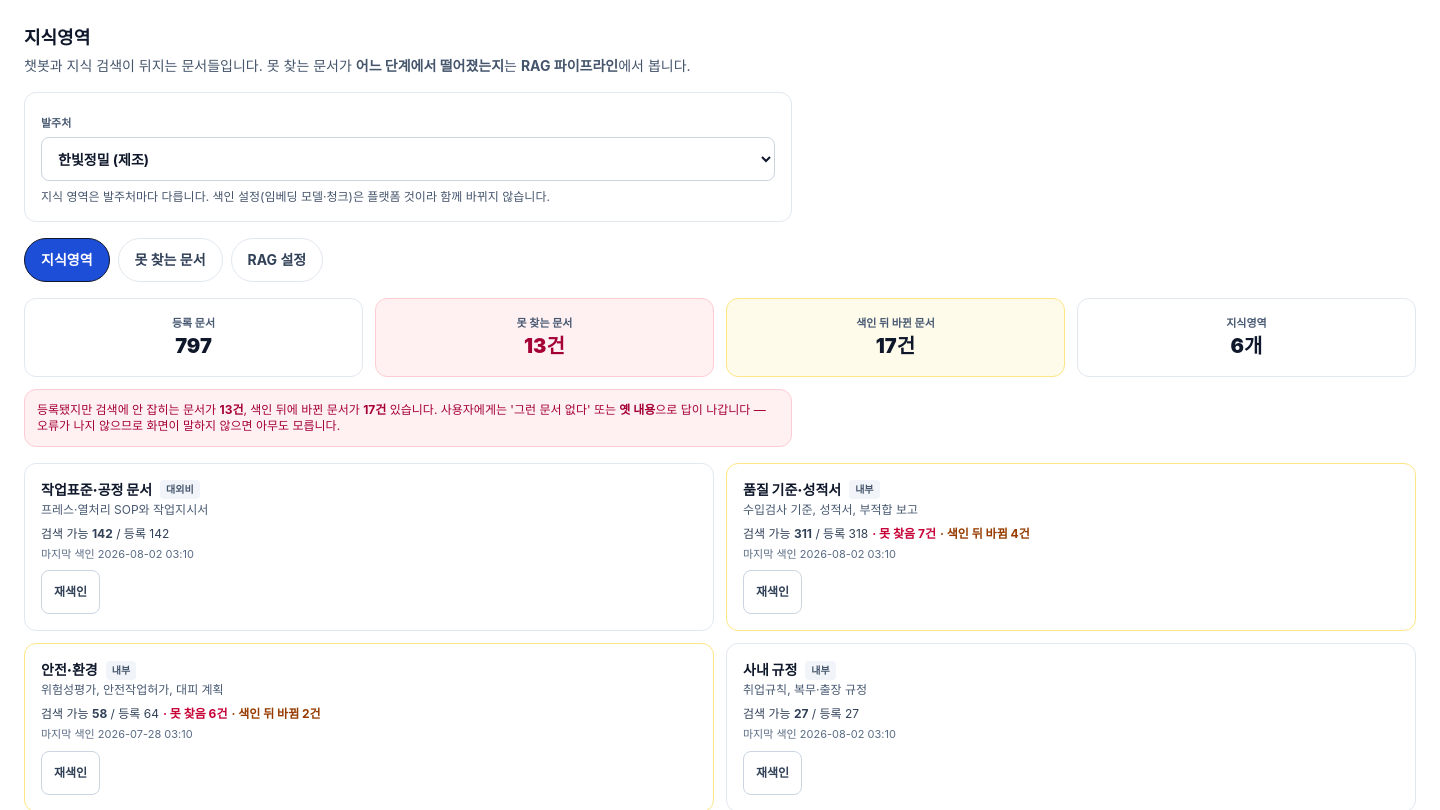
Test case: 지식영역 › 재색인은 성공한 척하지 않는다
Click the button "재색인" below "작업표준·공정 문서".
click(71, 592)  # box left=41, top=570, right=100, bottom=614
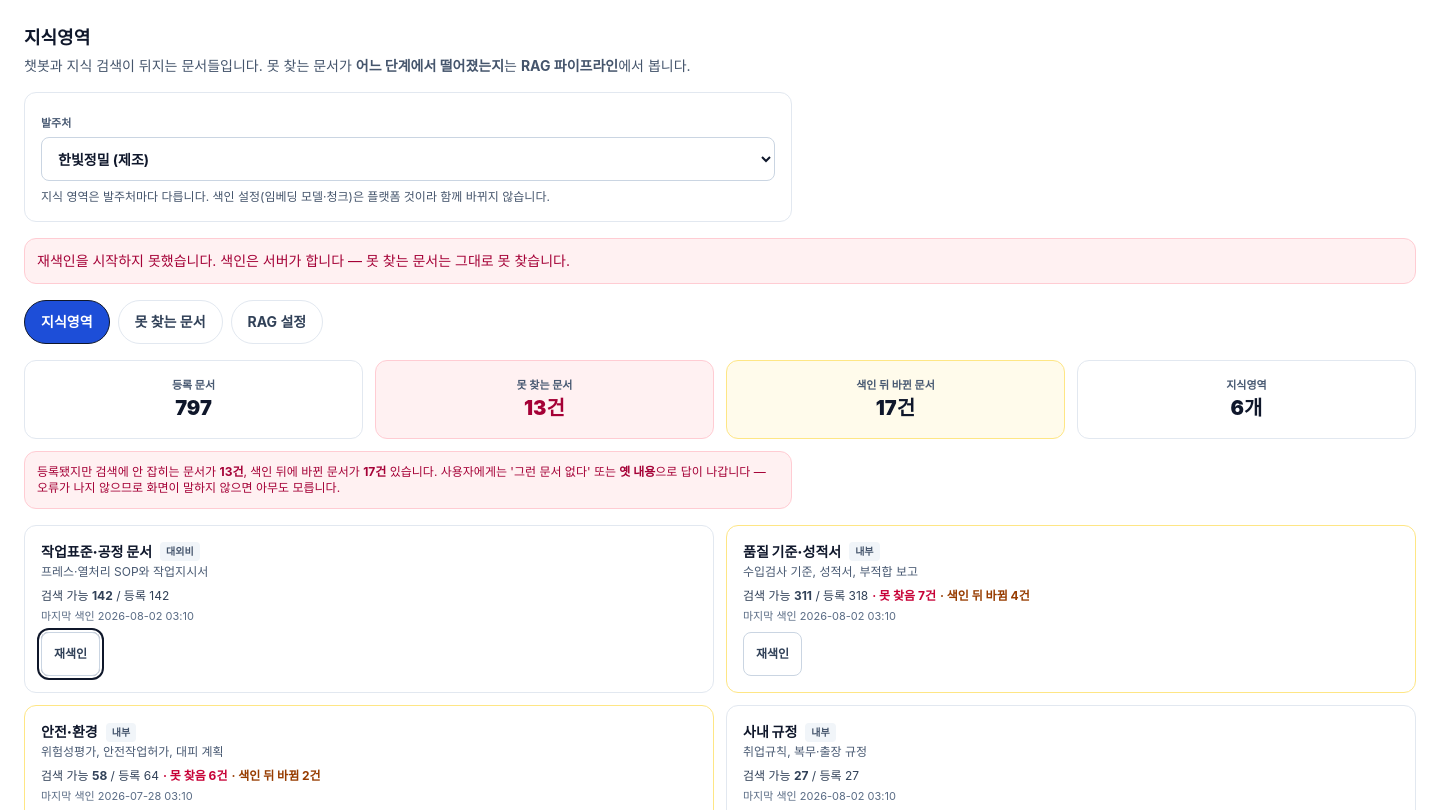
Now the message shows "못 찾는 문서는 그대로 못 찾습니다", box left=37, top=252, right=570, bottom=269
